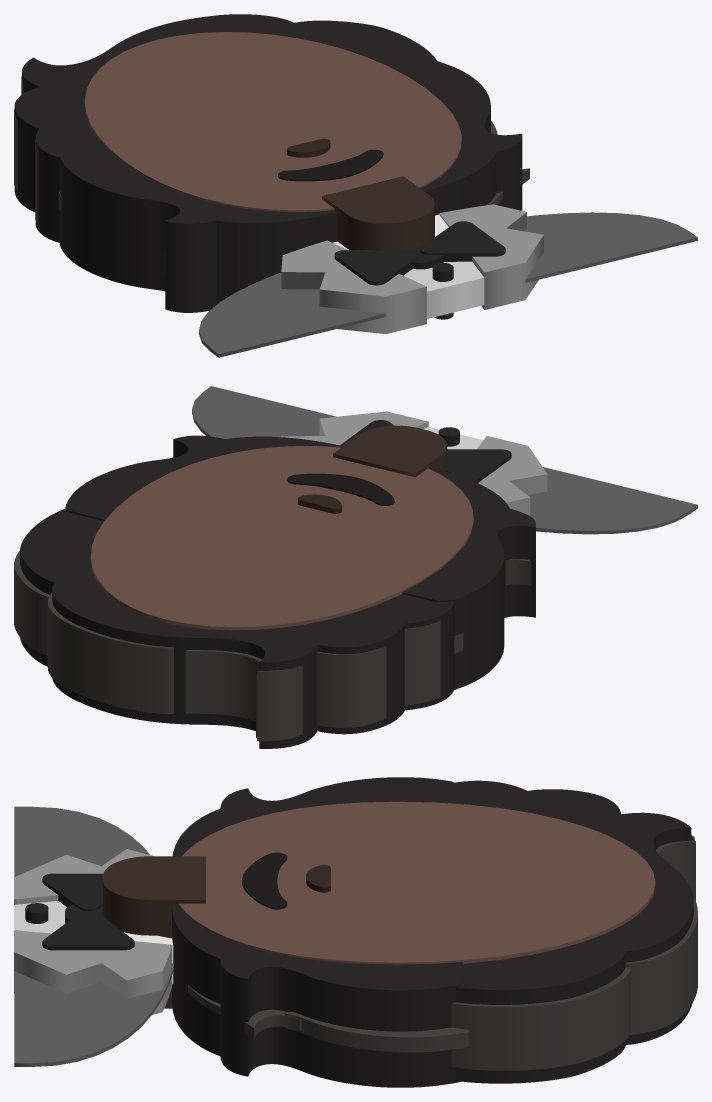
The model's file is emoji_u1f935_1f3ff.glb.
The picture shows the model from 3 angles, top to bottom: view 1: azimuth 30°, elevation 25°; view 2: azimuth 150°, elevation 25°; view 3: azimuth 270°, elevation 25°; orthographic projection. The views are drawn at different scales.
Parts seen in each view (by area): view 1: emoji_u1f935_1f3ff; view 2: emoji_u1f935_1f3ff; view 3: emoji_u1f935_1f3ff.
Boxes of the visible parts, bbox=[...] form: emoji_u1f935_1f3ff: bbox=[14, 14, 697, 357]; emoji_u1f935_1f3ff: bbox=[14, 386, 697, 748]; emoji_u1f935_1f3ff: bbox=[14, 777, 697, 1087].
Size of the model in its own units: 0.0294 by 0.006 by 0.0331.
